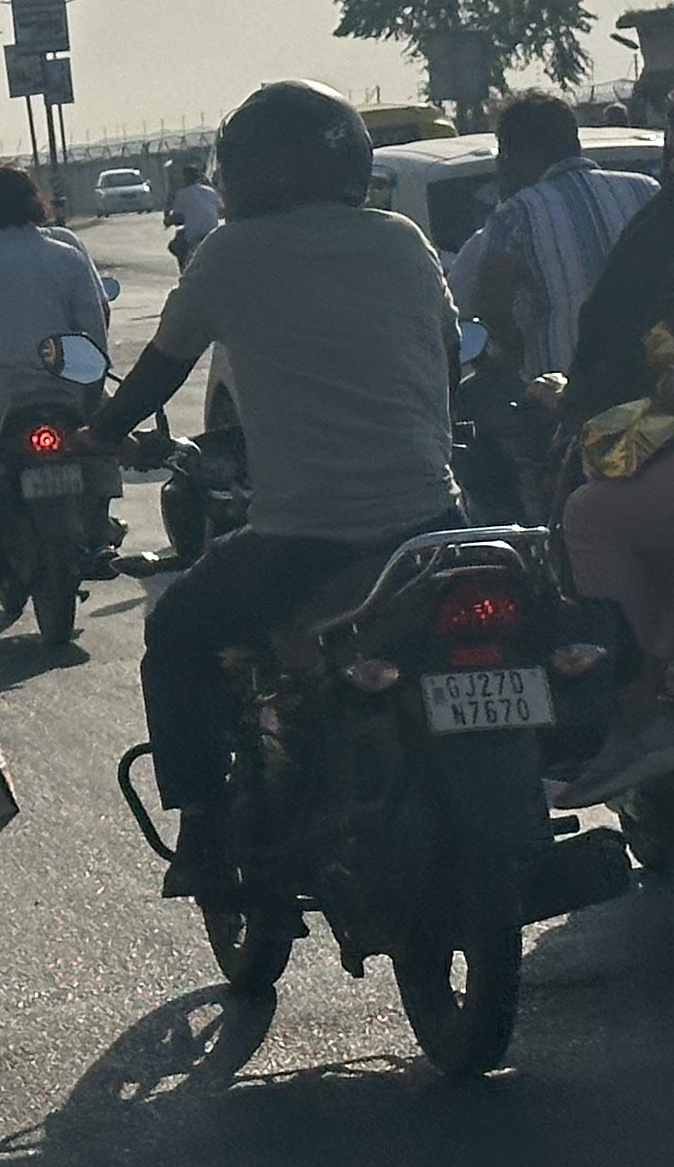BikeWithRider: (61, 67, 593, 1102), (0, 153, 141, 656)
Helmet: (201, 67, 386, 233)
NoHelmet: (481, 81, 594, 207), (0, 156, 54, 243)
